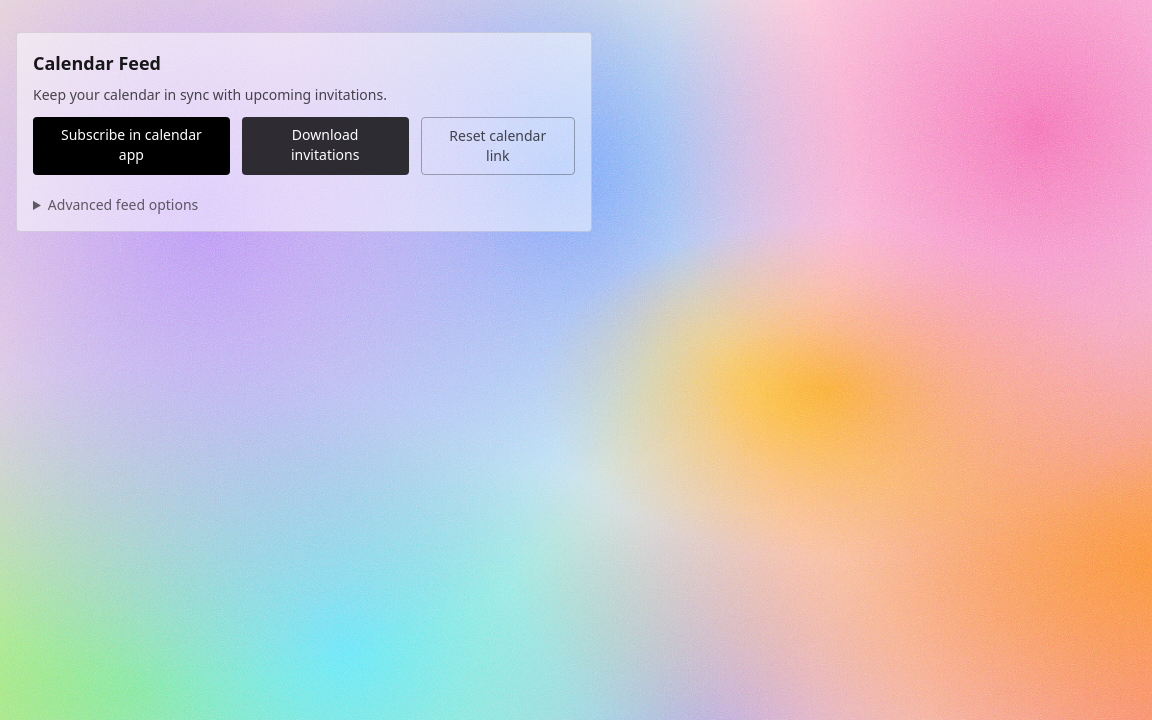
CalendarFeedControls › rotates the token and updates the displayed URL
Click the button "Reset calendar link" at (498, 146), box x1=421 y1=117 x2=575 y2=175
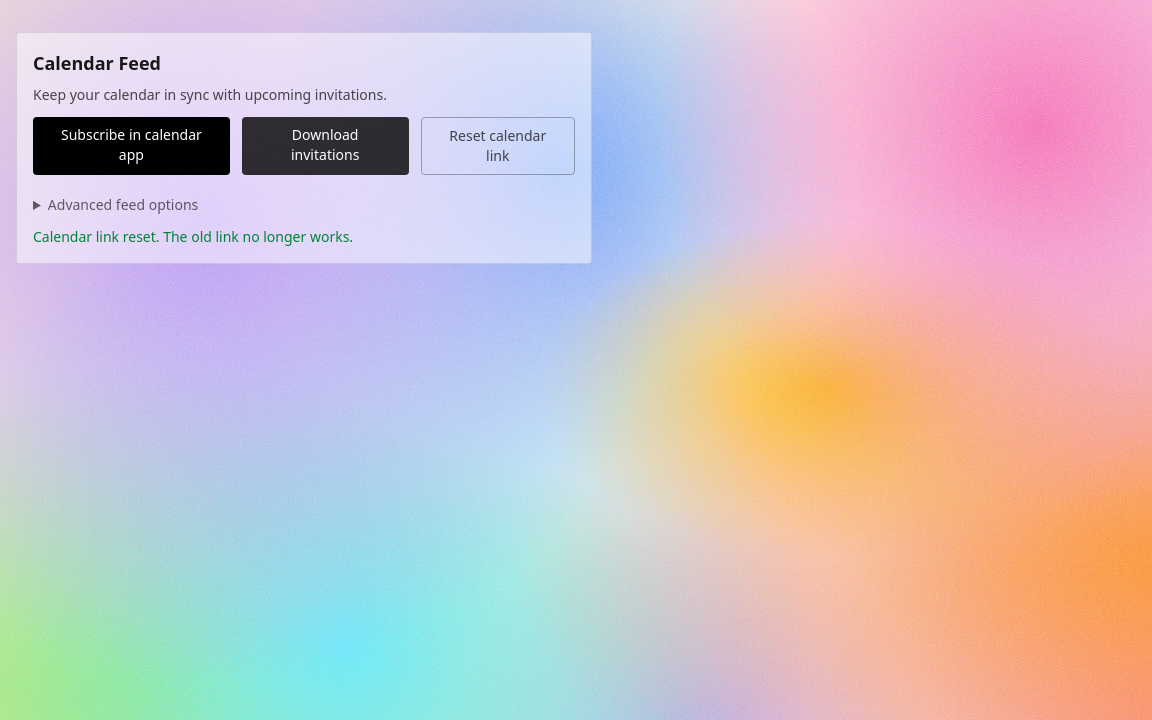
Check: the element showing "http://localhost:3000/api/bouncer/calendar/feed.ics?token=rotated" is shown, box x1=48 y1=195 x2=198 y2=214
Check: the text "Calendar link reset. The old link no longer works." is shown, box x1=33 y1=227 x2=353 y2=246
